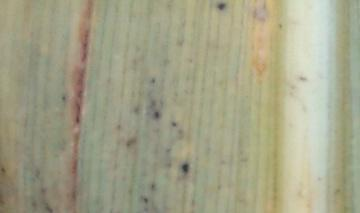tarspot: (124, 136, 138, 147), (215, 2, 227, 12), (180, 161, 190, 173), (169, 119, 178, 130), (148, 97, 157, 108), (296, 74, 308, 82), (164, 145, 173, 154), (164, 160, 173, 169), (276, 21, 284, 31), (153, 110, 161, 120), (150, 76, 158, 85), (142, 195, 149, 205), (114, 123, 123, 130), (131, 106, 141, 112), (1, 166, 7, 175), (150, 182, 155, 190), (60, 95, 67, 100)
